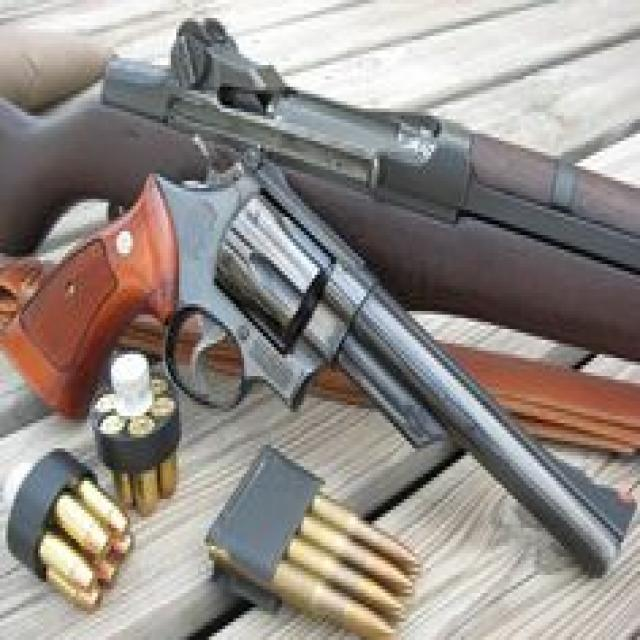revolver: (0, 128, 637, 590)
